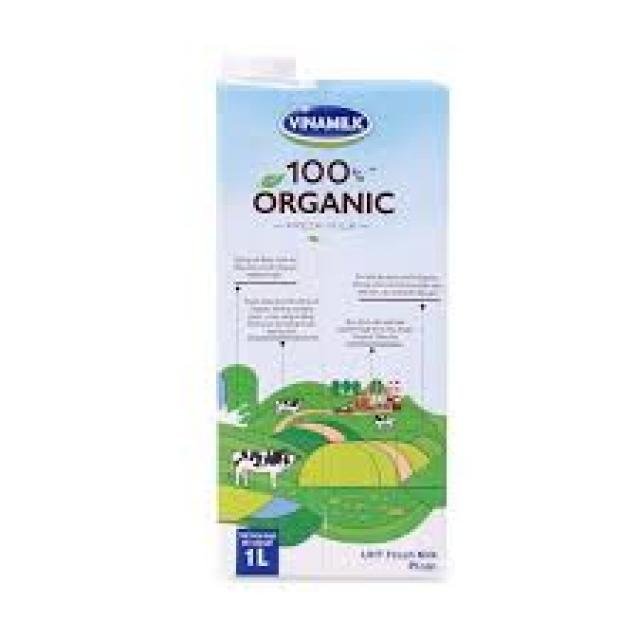non_white_jug: (176, 31, 452, 575)
